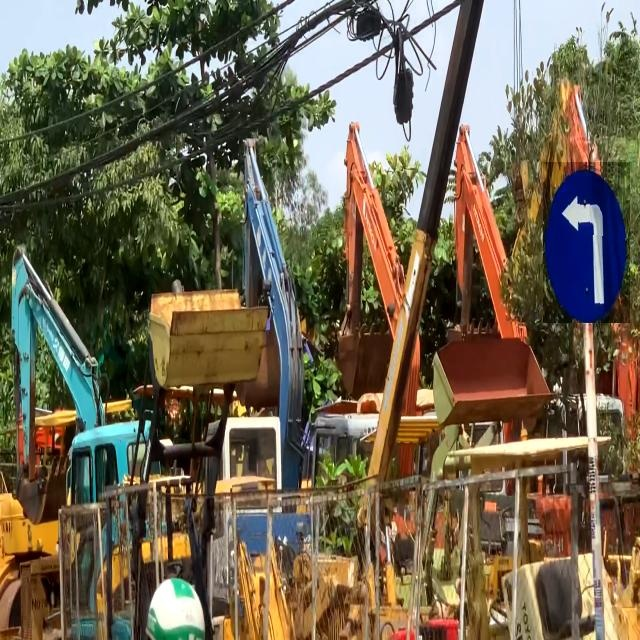bien_hieu_lenh: (543, 162, 630, 323)
